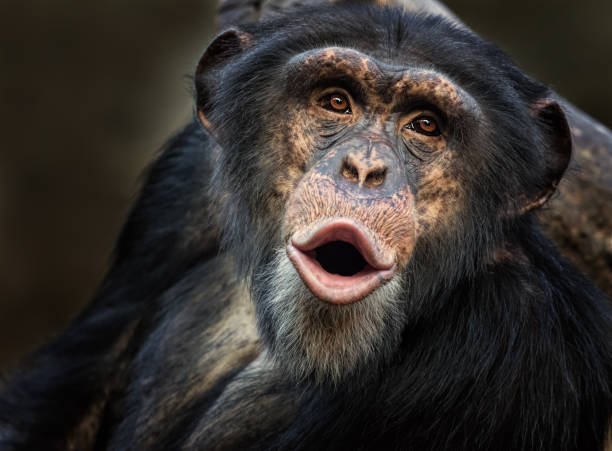chimpanzee: (164, 4, 612, 390)
